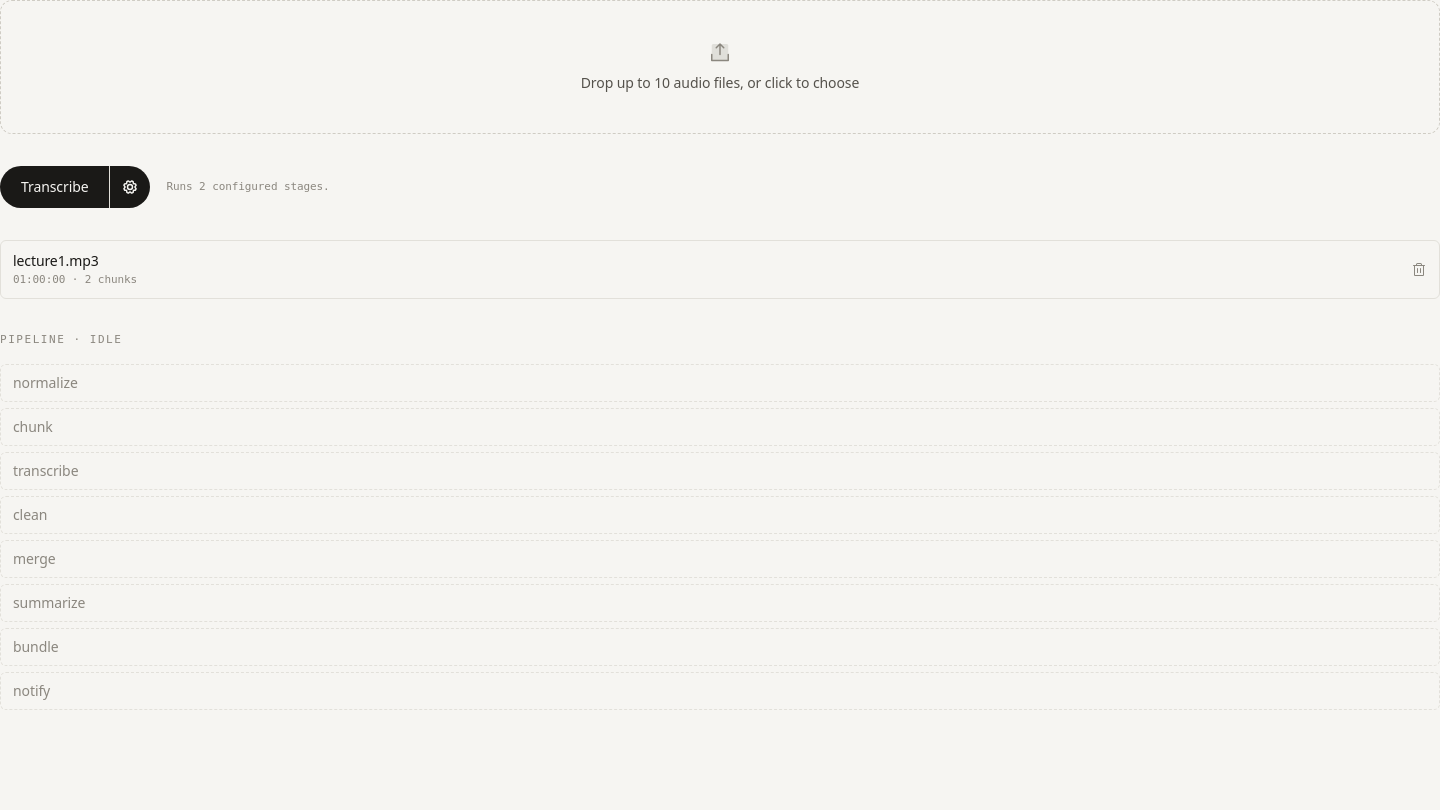
Test: with transcribe disabled in config, the modal lists only the effective (cascaded) enabled stages
Click the button named "run settings": (130, 187) x1=110 y1=166 x2=150 y2=208
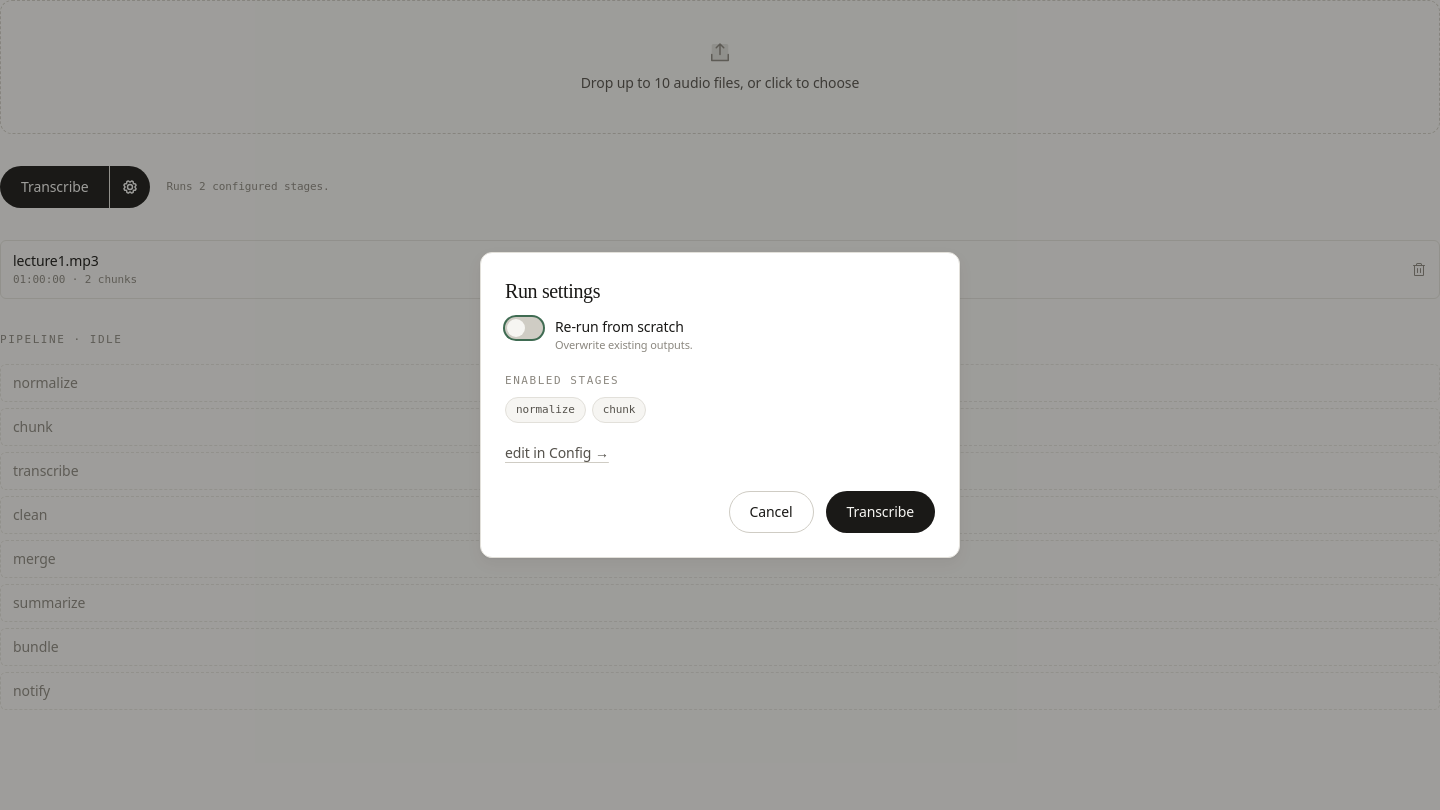
Expected: the list item "normalize" is shown, x1=505 y1=397 x2=586 y2=422
Expected: the list item "chunk" is shown, x1=592 y1=397 x2=646 y2=422
